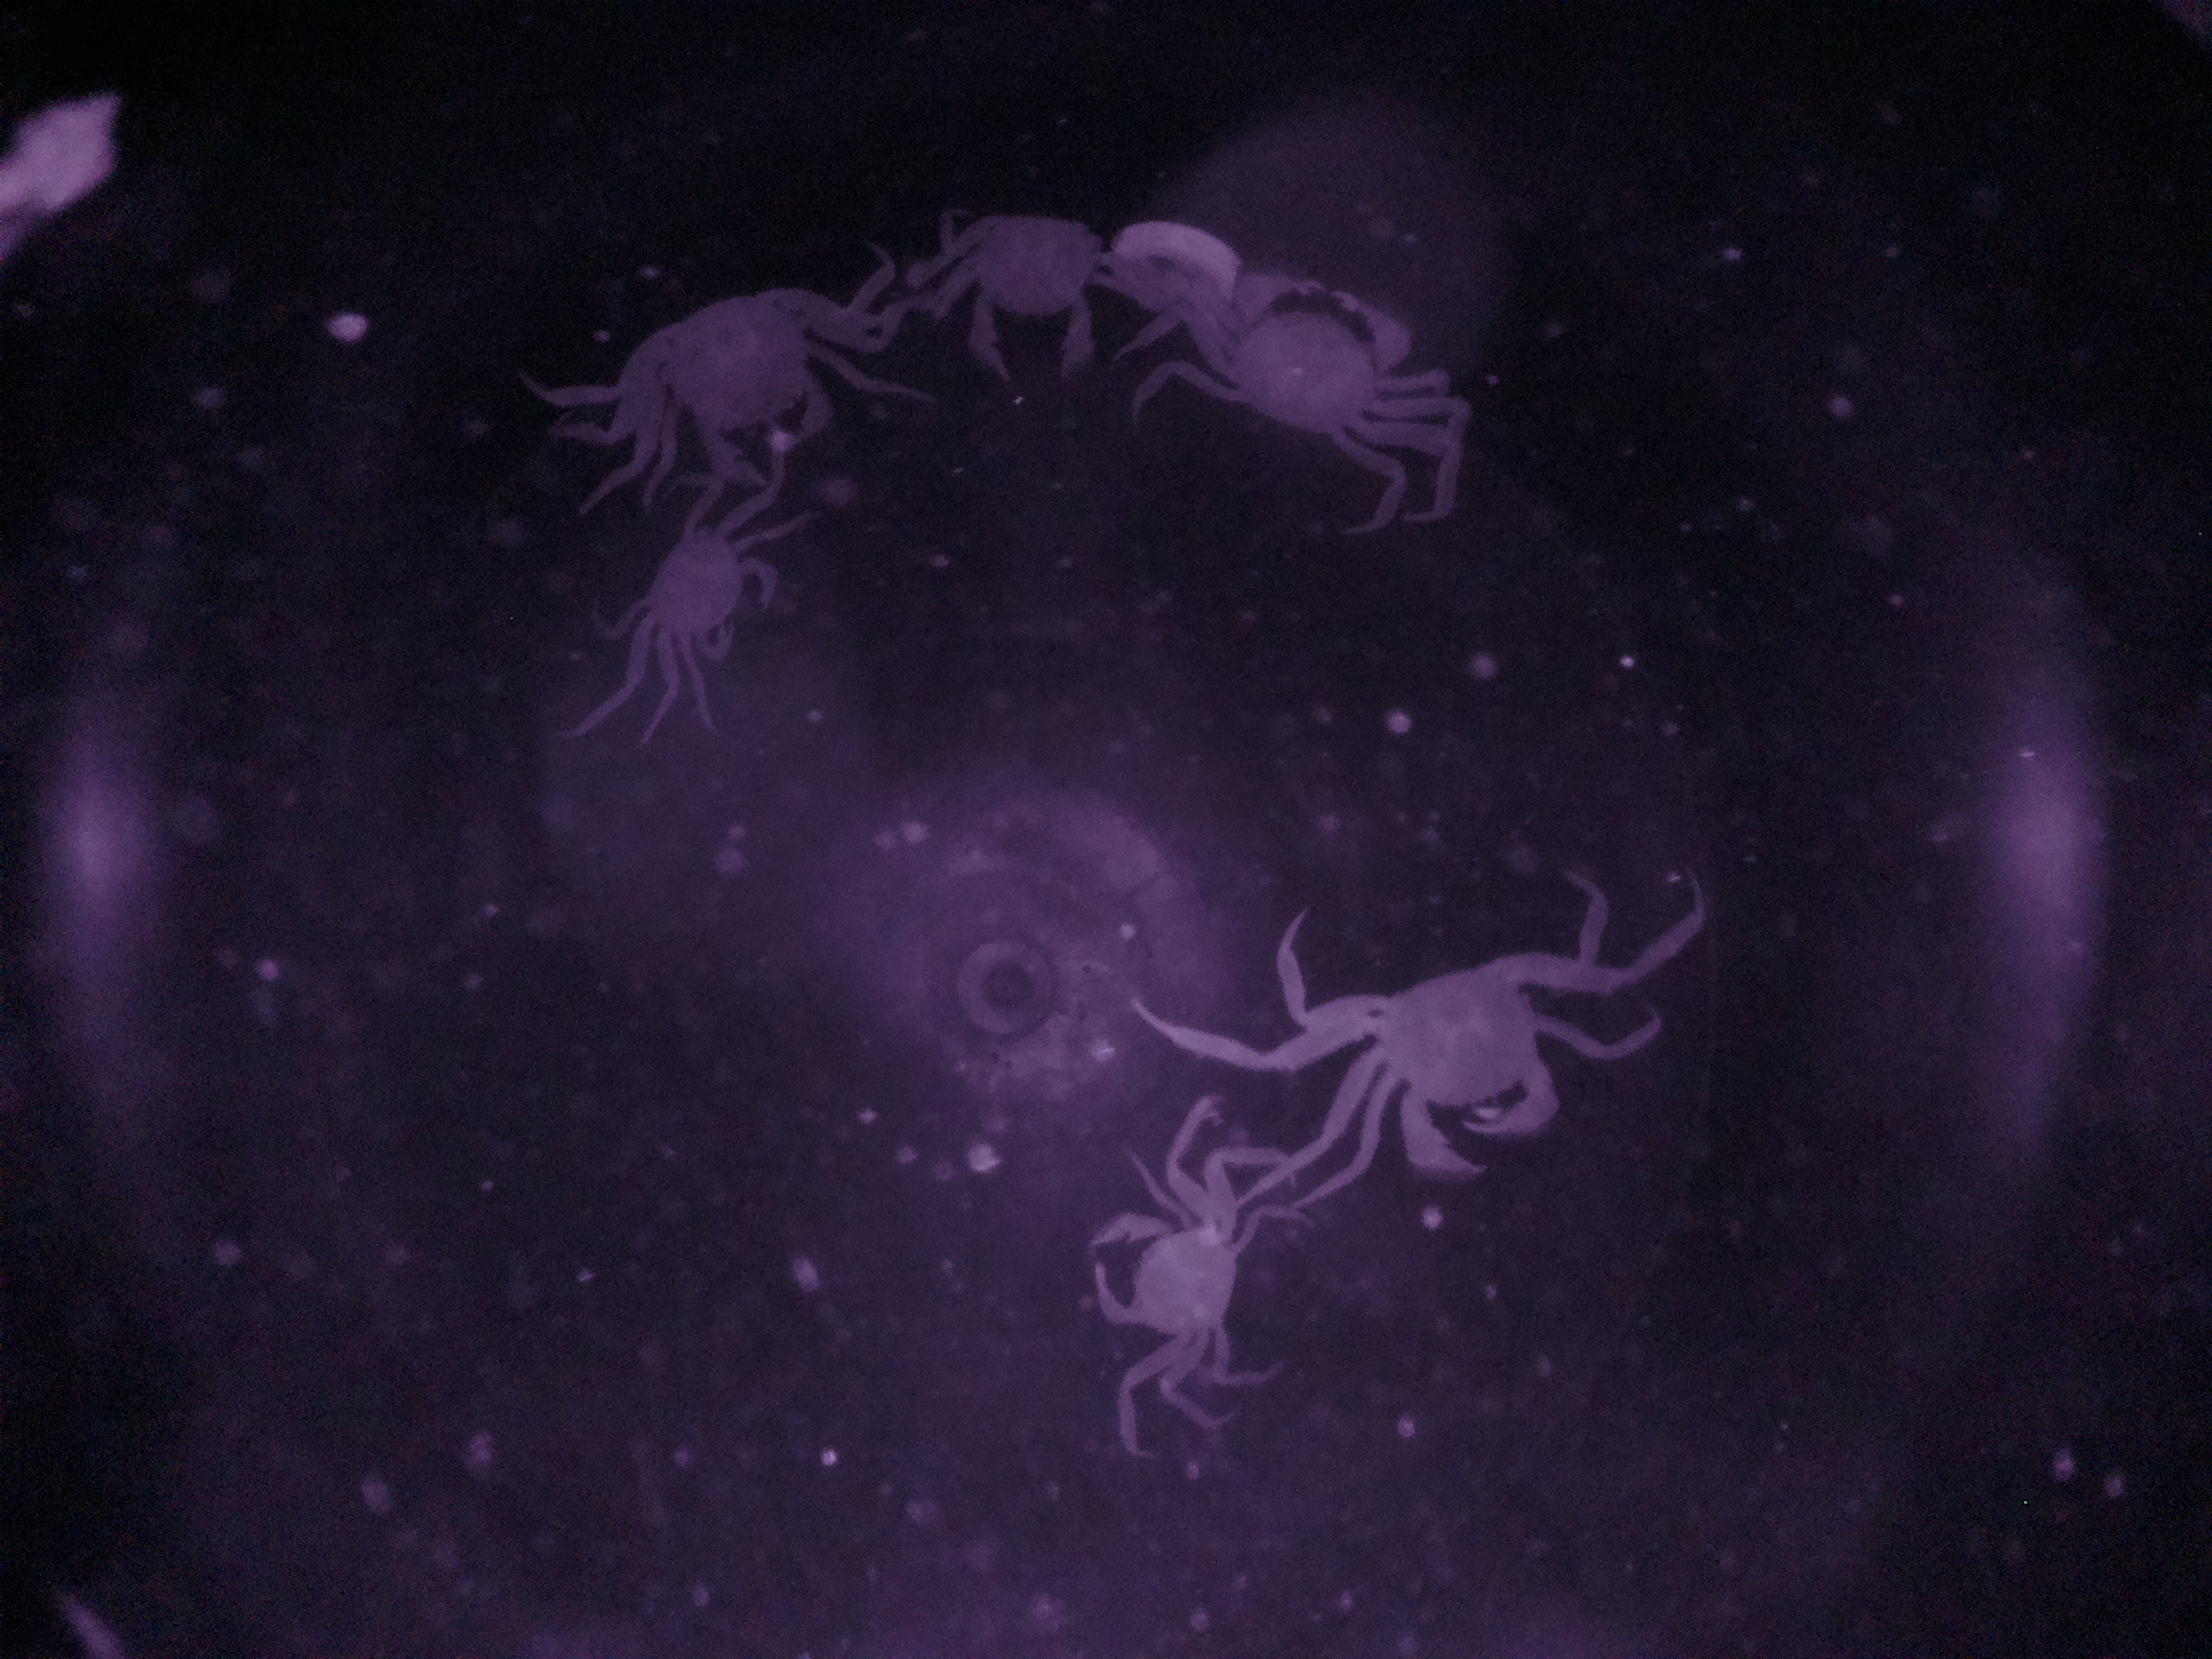Crab: (1322, 911, 1606, 1195), (1177, 256, 1433, 462), (639, 272, 866, 493), (1075, 1143, 1270, 1389), (928, 173, 1113, 404), (608, 509, 799, 701)
